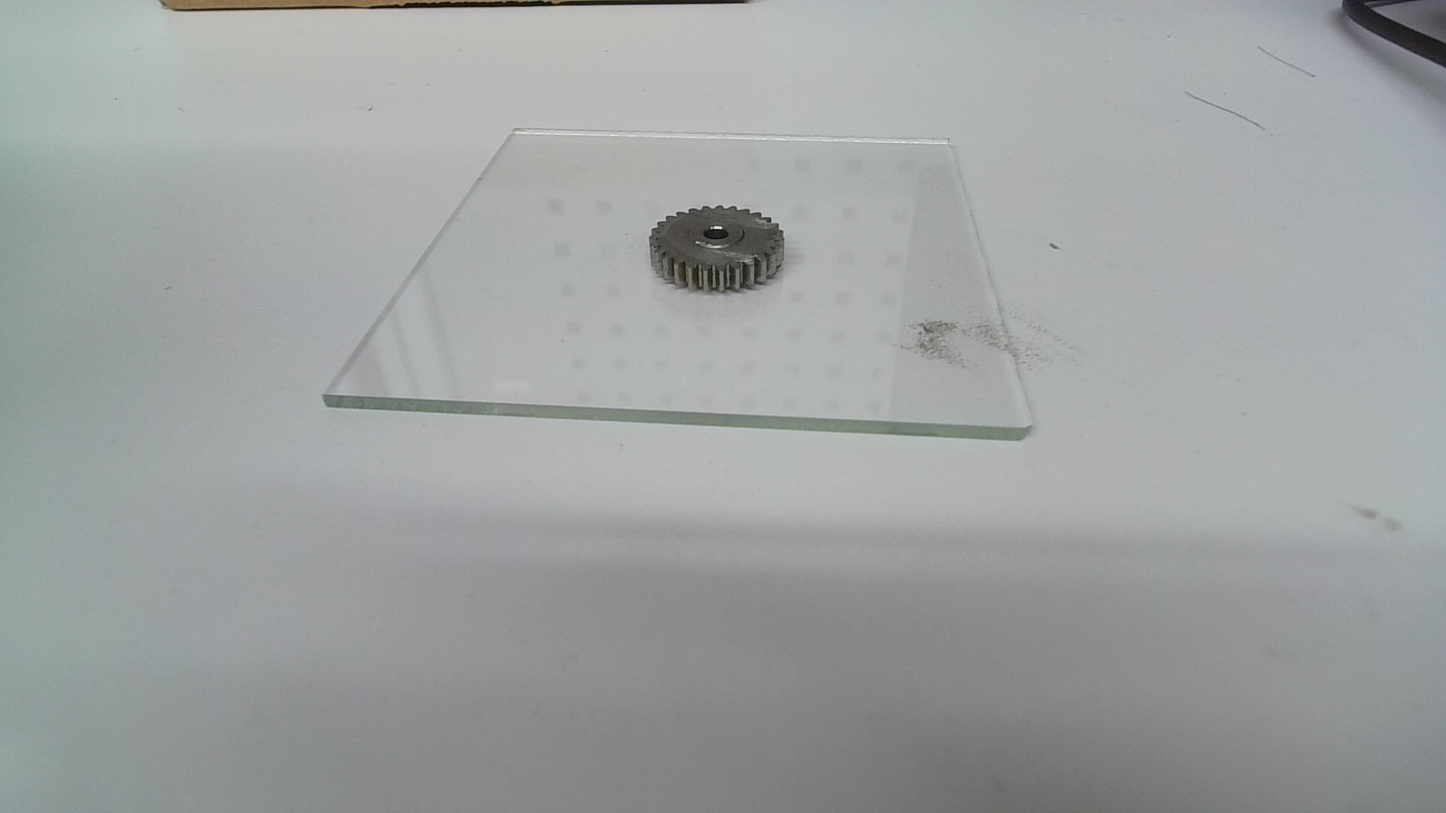gear: (646, 201, 787, 295)
